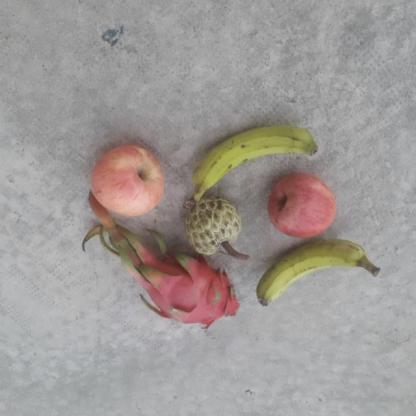annona: (186, 195, 249, 258)
apple: (87, 140, 166, 220), (260, 173, 344, 244)
banana: (250, 240, 384, 312), (191, 126, 323, 193)
pitaya: (136, 260, 244, 333)
